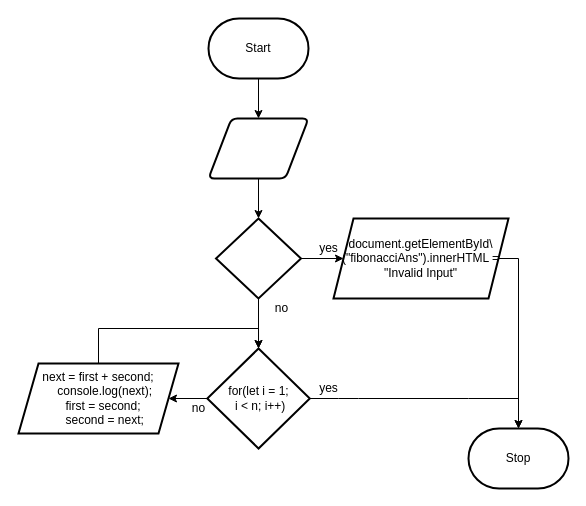
Image size: 586x506. Some labels were removed from this diagram. Here are the shapes that lost their labels. From the top down, the centre of each, then its label:
[258,148]: the number you want
[258,258]: if(n <= 0)
